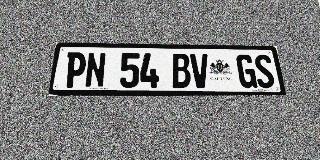4: (140, 53, 159, 88)
5: (120, 53, 140, 88)
B: (171, 53, 191, 88)
G: (236, 54, 258, 88)
N: (84, 52, 106, 88)
P: (63, 52, 87, 88)
S: (253, 55, 276, 88)
V: (190, 54, 210, 88)
